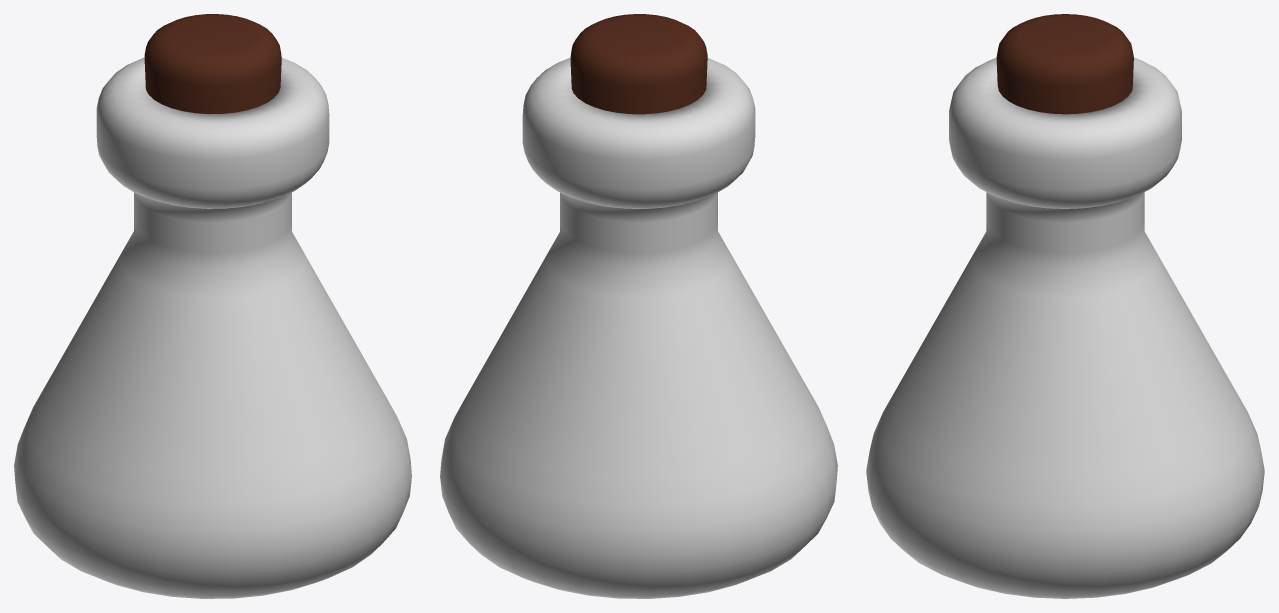
The model's file is Poção Mana.fbx.
The picture shows the model from 3 angles, left to right: view 1: azimuth 30°, elevation 25°; view 2: azimuth 150°, elevation 25°; view 3: azimuth 270°, elevation 25°; orthographic projection.
Parts seen in each view (by area): view 1: Cone, Cylinder; view 2: Cone, Cylinder; view 3: Cone, Cylinder.
Boxes of the visible parts, left/top/right/bottom form: Cone: left=14, top=57, right=411, bottom=598; Cylinder: left=144, top=14, right=281, bottom=114; Cone: left=440, top=57, right=837, bottom=598; Cylinder: left=570, top=14, right=707, bottom=114; Cone: left=866, top=57, right=1264, bottom=598; Cylinder: left=996, top=14, right=1133, bottom=114.
Bounding box in the file's own units: 65.7 × 92.01 × 65.7.
